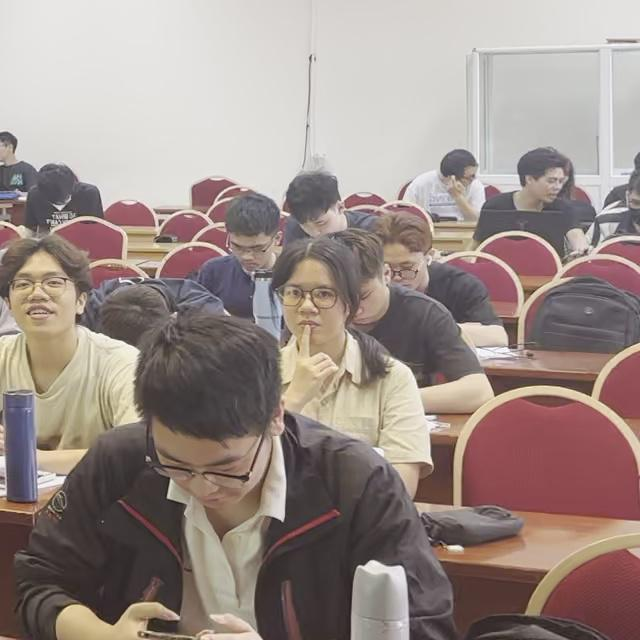Looking away: (227, 220, 274, 270), (295, 200, 346, 239), (534, 162, 566, 202), (454, 153, 479, 188)
Looking forward: (8, 251, 78, 333), (283, 263, 346, 343)
Phone use: (26, 330, 438, 640)
